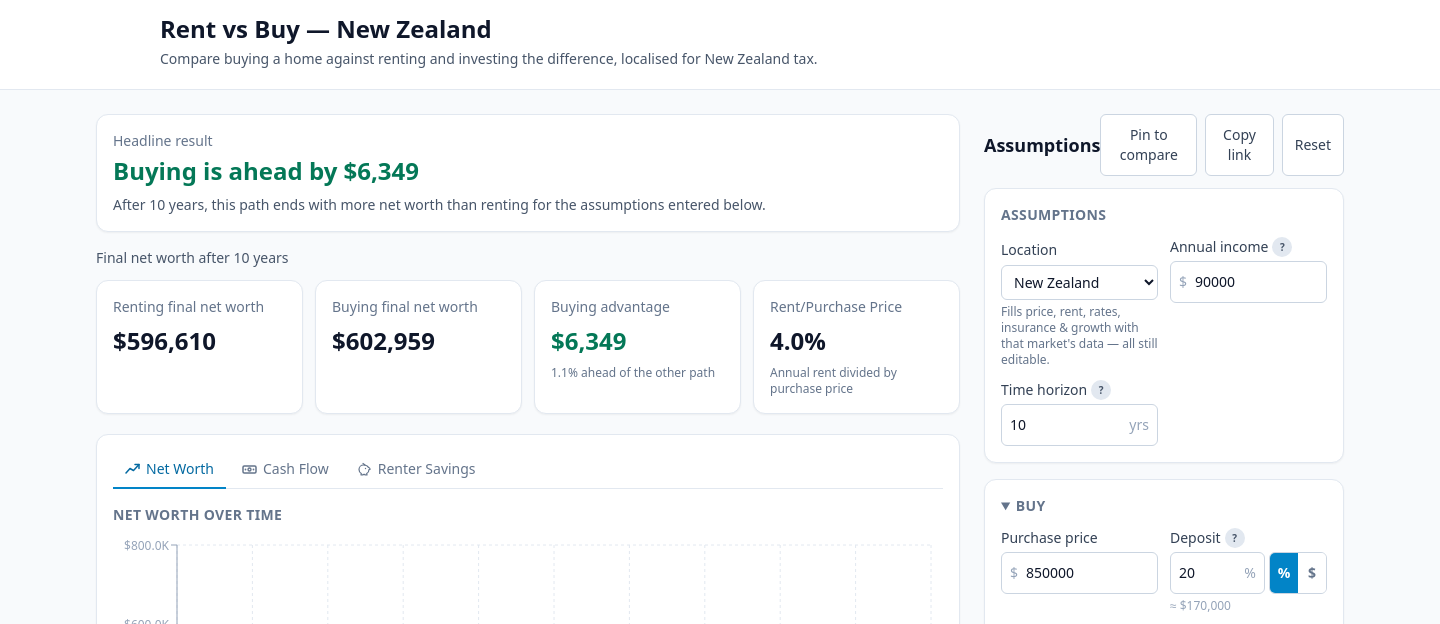
Test case: App (smoke) › does not describe partial-period cash-flow bars as full annual values
Click the tab "Cash Flow" at [285, 470], box [230,451,341,489]
(page scrolled)
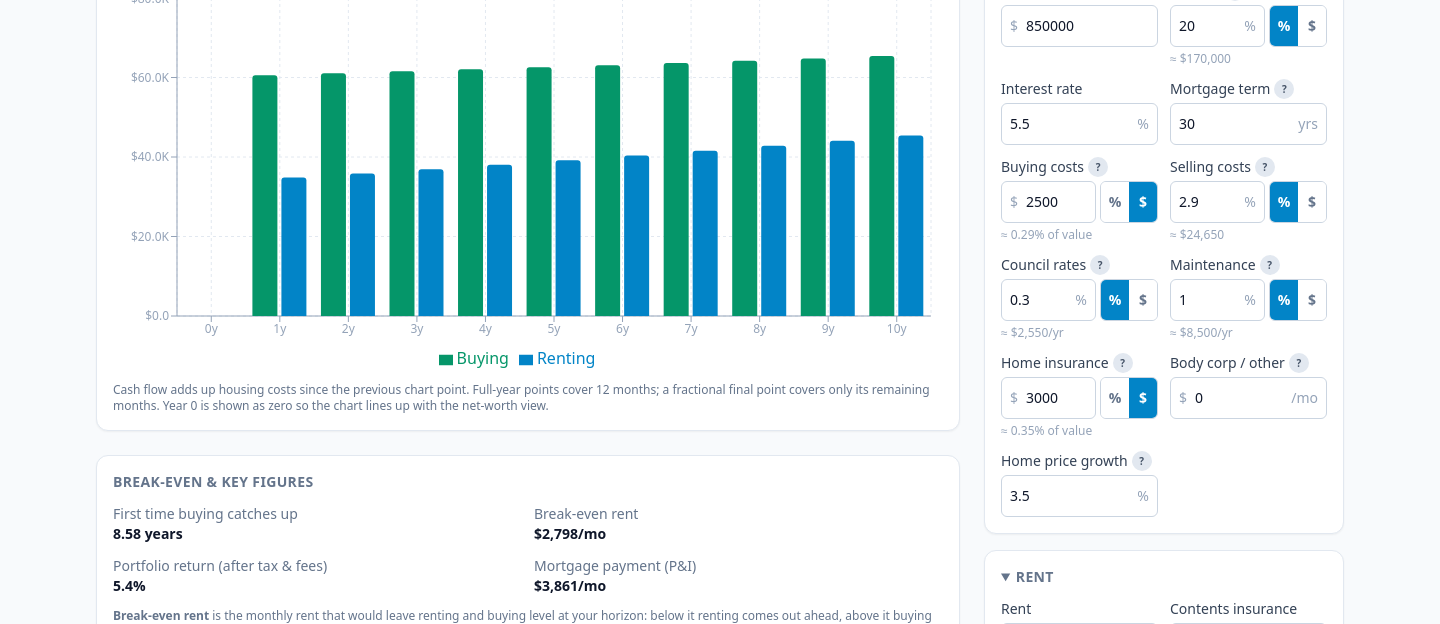
Now the text "Full-year points cover 12 months" is shown, box [113,381,930,414]
